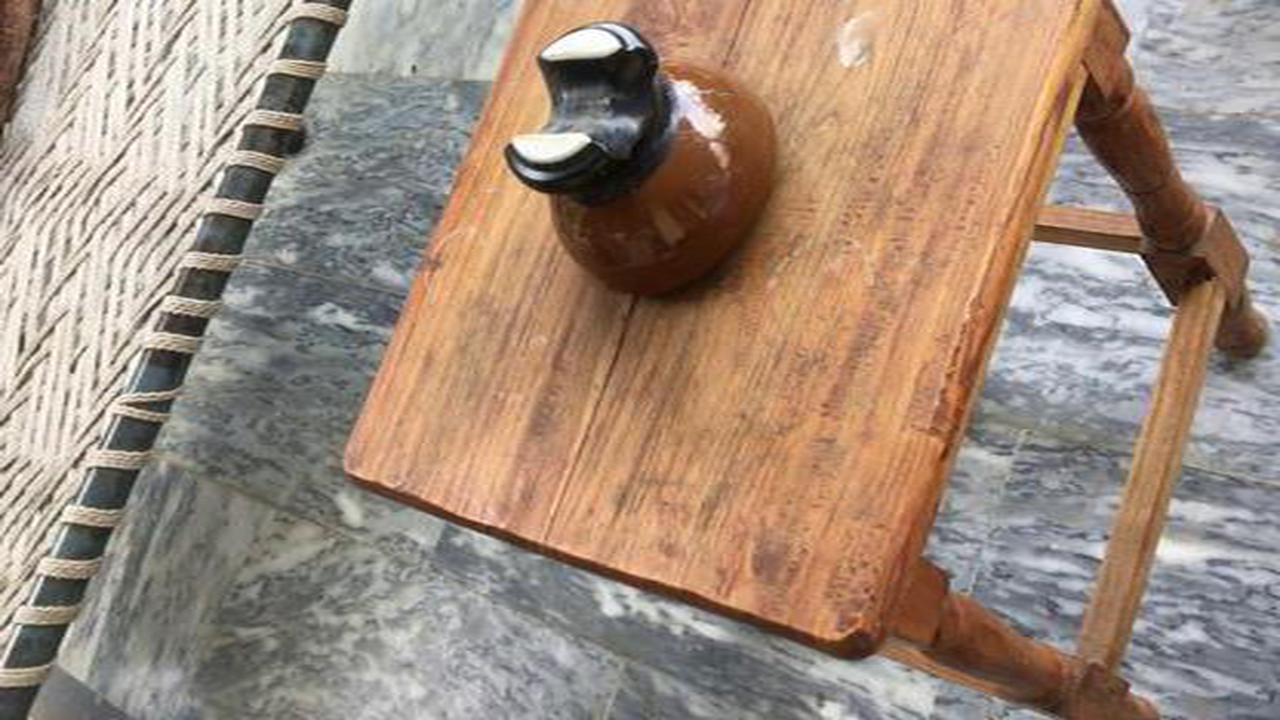insulator_pin: (484, 11, 791, 316)
